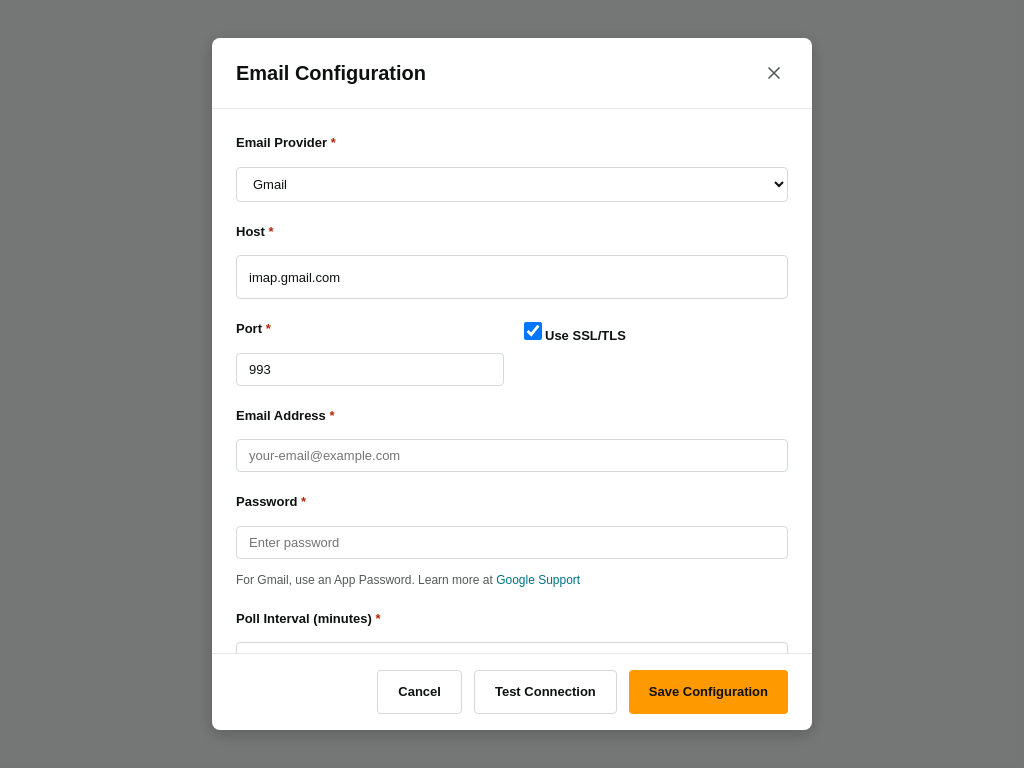
Test: EmailConfigDialog › Form Validation › should show error when host is empty
Clear the field labelled "Host *": (512, 277) [236, 255, 788, 299]
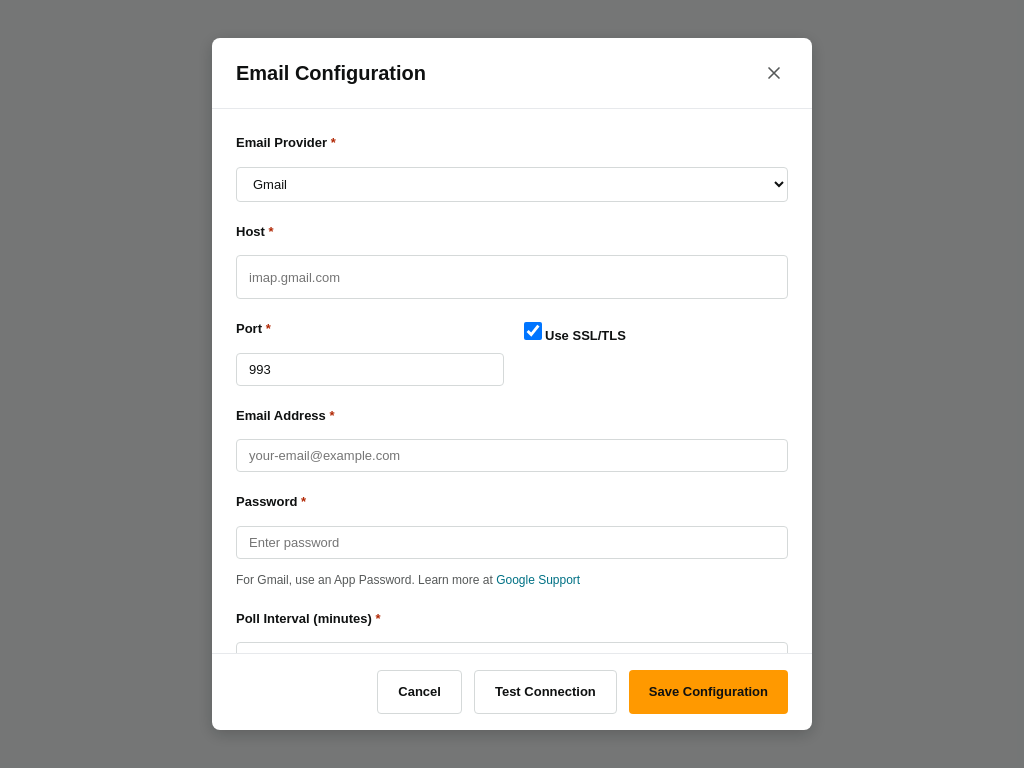
Click the button "Save Configuration": (708, 692) [629, 670, 788, 714]
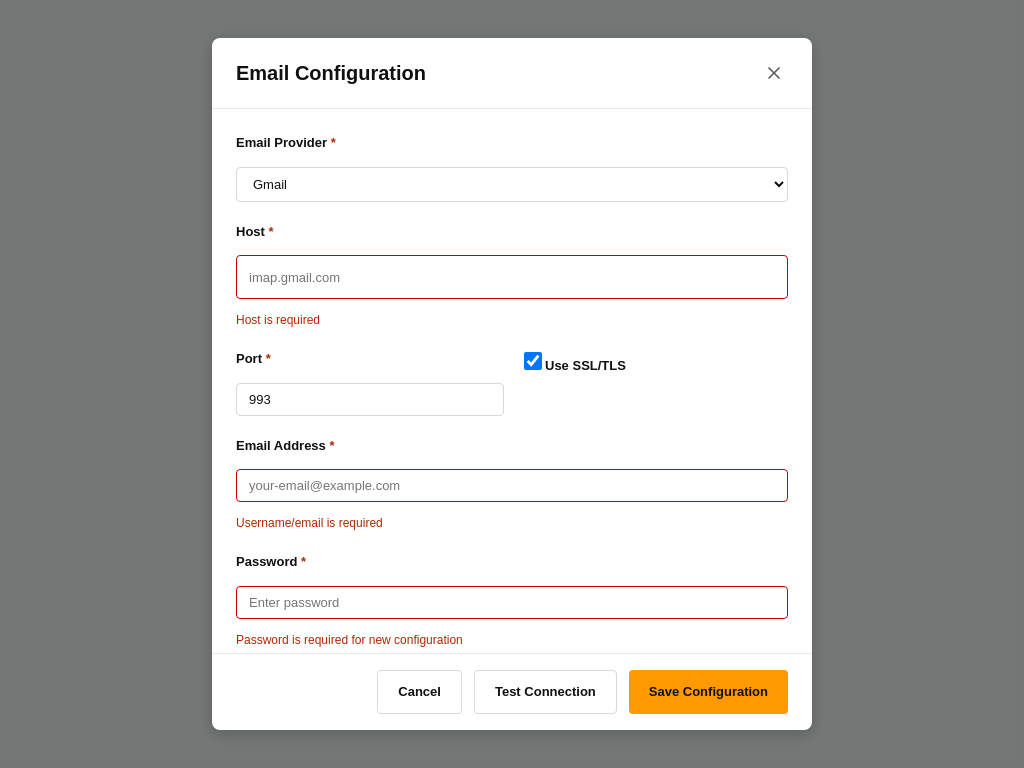
Result: the text "Host is required" is shown at [236, 313, 320, 327]
